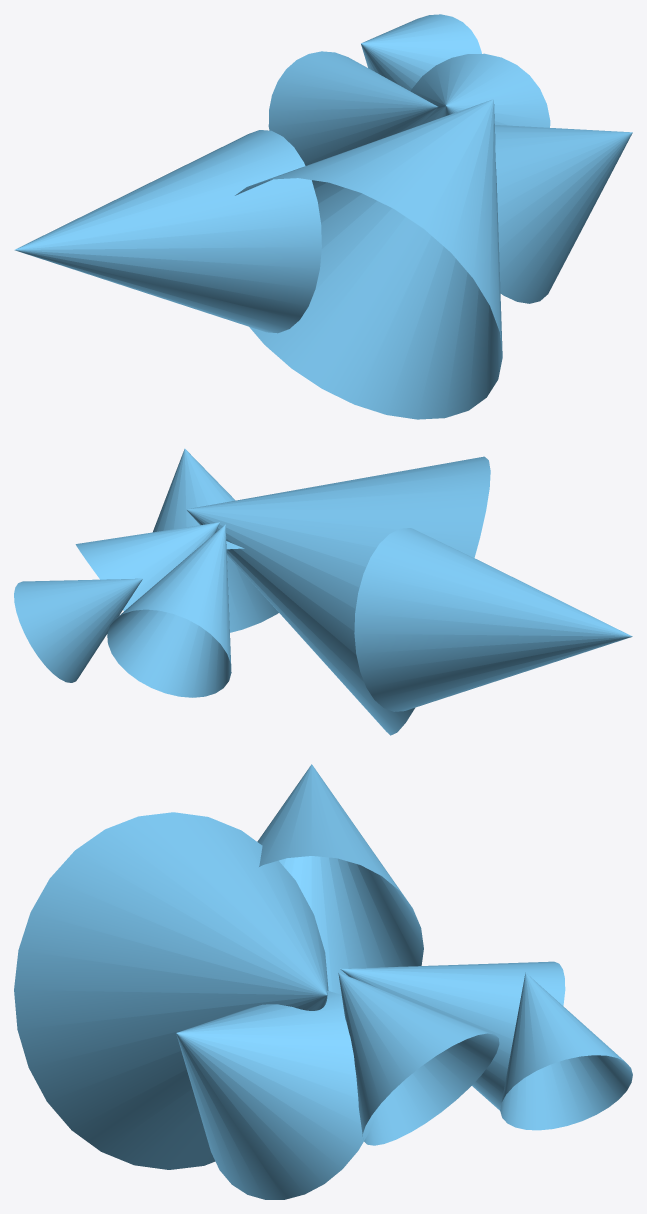
The model's file is item-campos.glb.
3 renders of one model, top to bottom at view 1: azimuth 30°, elevation 25°; view 2: azimuth 150°, elevation 25°; view 3: azimuth 270°, elevation 25°, orthographic. The views are drawn at different scales.
Visible parts, largest first — view 1: campos-de-visao; view 2: campos-de-visao; view 3: campos-de-visao.
Part boxes in pixels (x1=…): campos-de-visao: x1=14, y1=14, x2=632, y2=419; campos-de-visao: x1=14, y1=448, x2=632, y2=735; campos-de-visao: x1=14, y1=764, x2=632, y2=1199.
Size of the model in its own units: 23.16 by 10.7 by 19.84.
